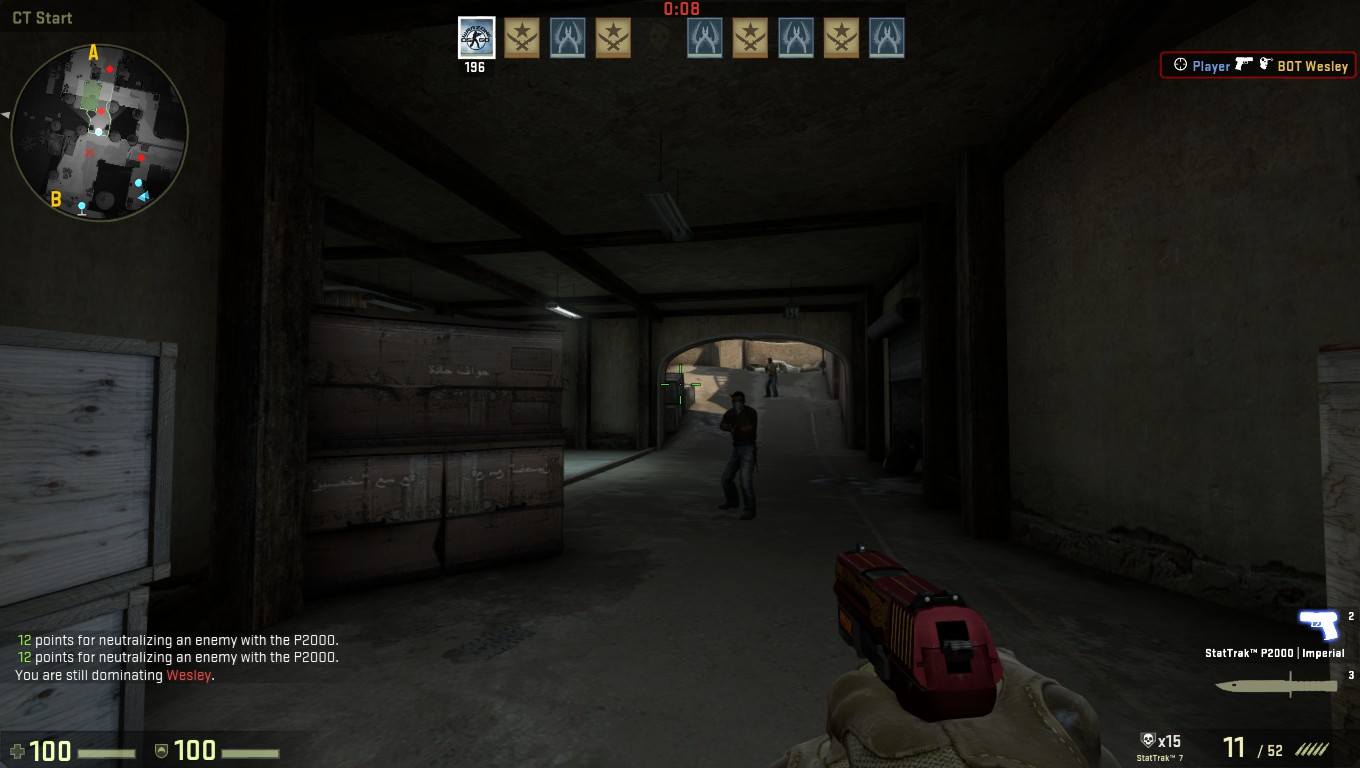t: (715, 389, 759, 523), (761, 355, 780, 400)
th: (727, 389, 749, 412), (765, 357, 776, 365)
